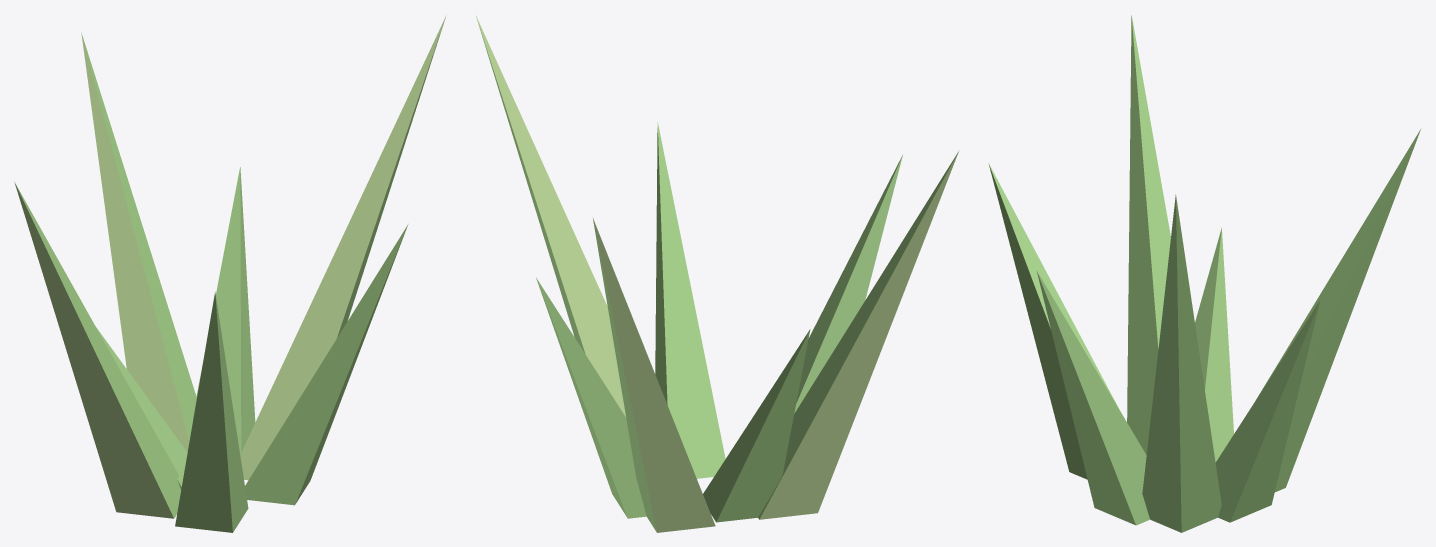
Rendered from Grass.fbx.
The picture shows the model from 3 angles, left to right: view 1: azimuth 30°, elevation 25°; view 2: azimuth 150°, elevation 25°; view 3: azimuth 270°, elevation 25°; orthographic projection. The views are drawn at different scales.
Parts seen in each view (by area): view 1: Grass; view 2: Grass; view 3: Grass.
Part boxes in pixels (box(x1,y1,x2,y2)): Grass: box(14, 15, 446, 532); Grass: box(476, 16, 959, 532); Grass: box(988, 15, 1421, 532).
Bounding box in the file's own units: 0.5582 × 0.4848 × 0.4677.
